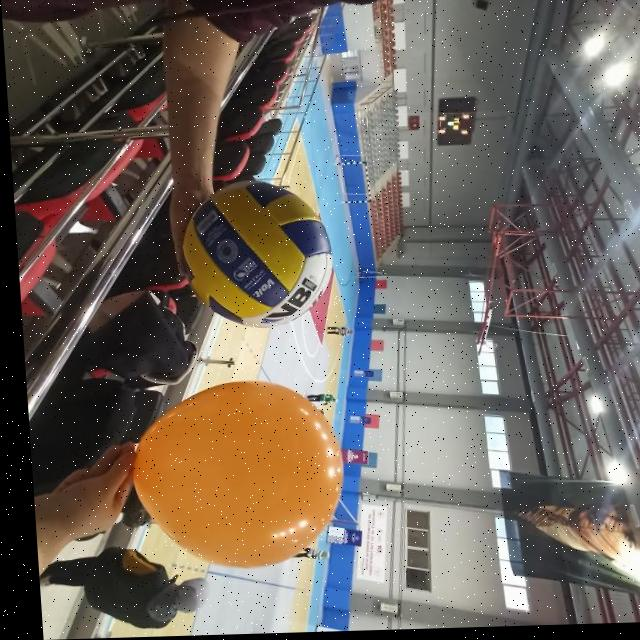balloon: (124, 381, 342, 574)
